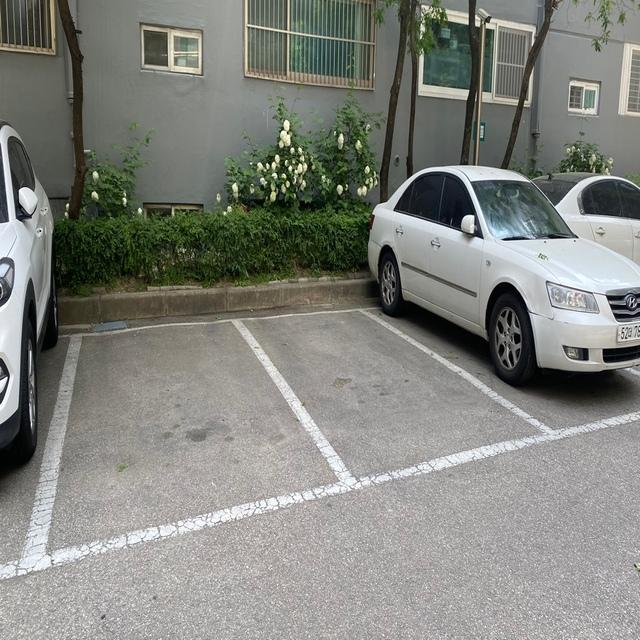Car: (366, 164, 640, 378)
Vacant: (16, 316, 366, 580), (229, 304, 569, 497)
